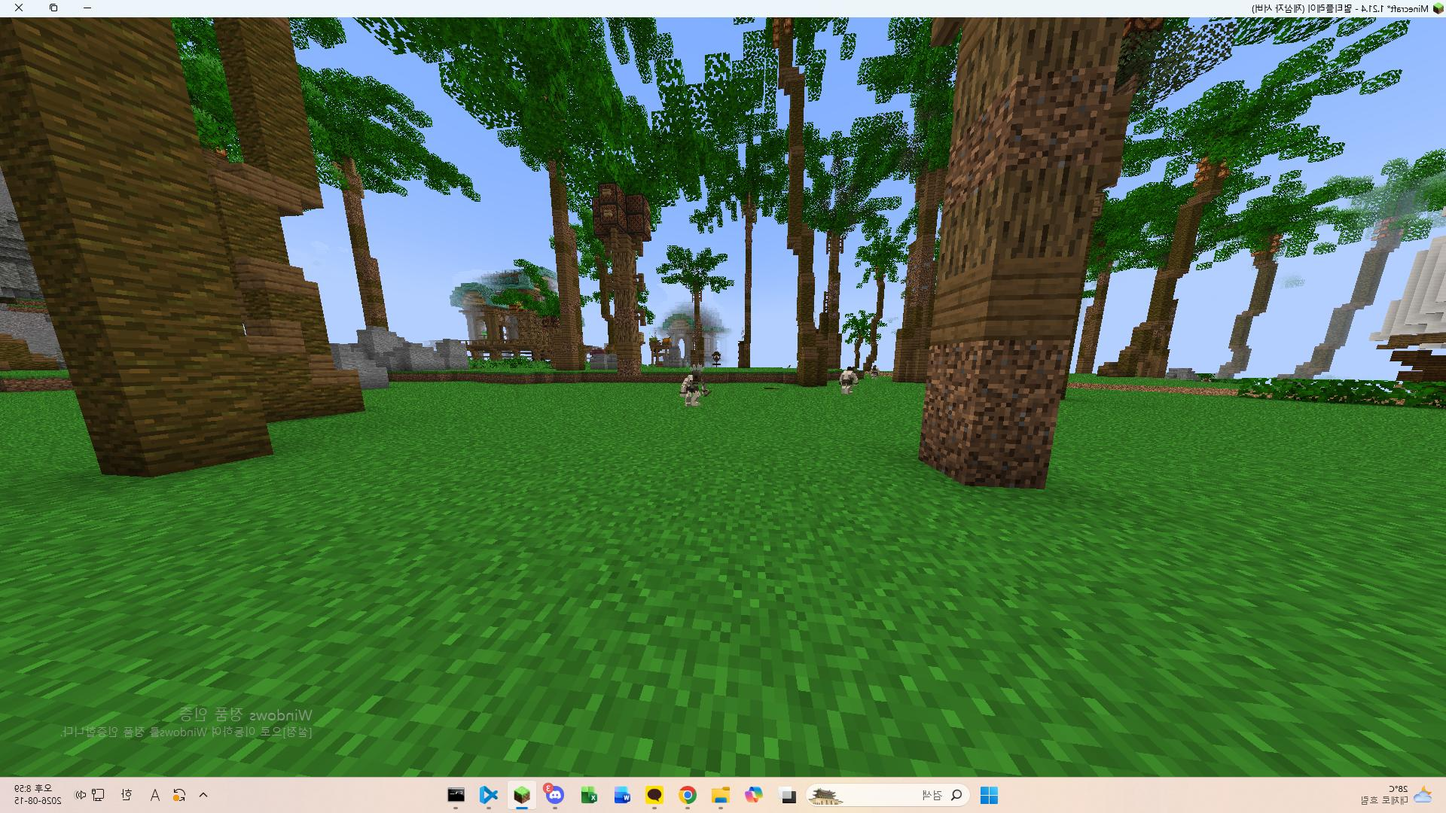bow_indian: (672, 367, 714, 414)
